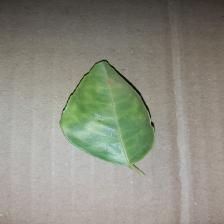greening: (53, 55, 171, 182)
